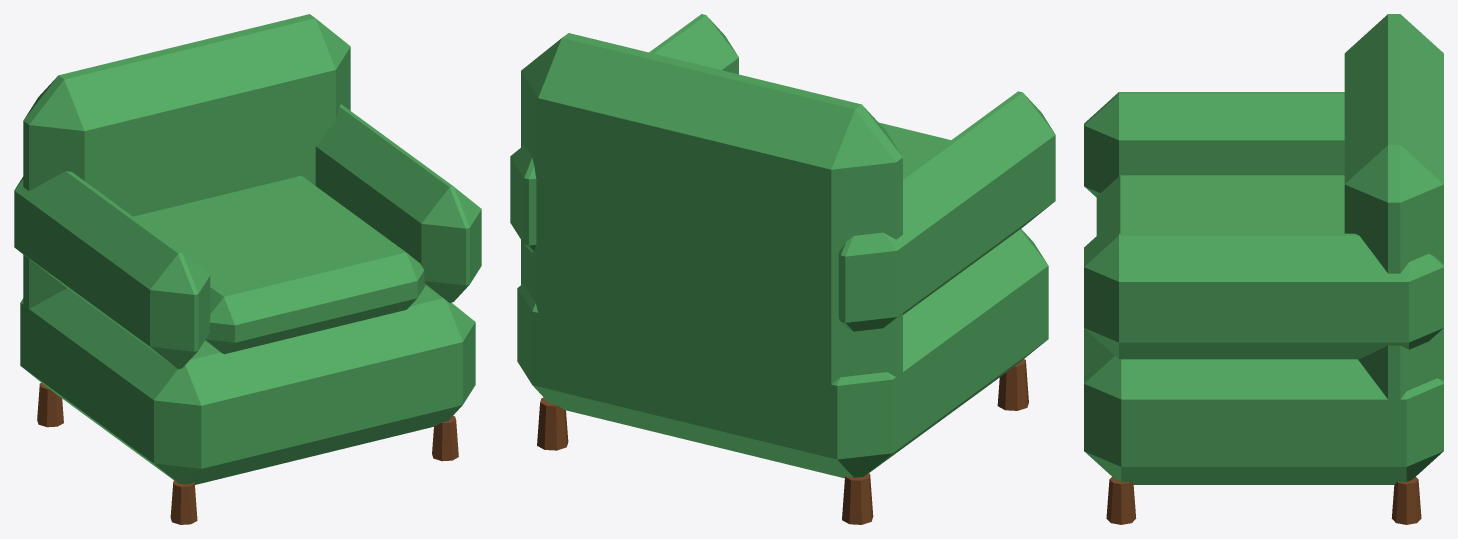
The model's file is GreenArmchair.fbx.
3 renders of one model, left to right at view 1: azimuth 30°, elevation 25°; view 2: azimuth 150°, elevation 25°; view 3: azimuth 270°, elevation 25°, orthographic. The views are drawn at different scales.
Visible parts, largest first — view 1: GreenArmchair; view 2: GreenArmchair; view 3: GreenArmchair.
Part boxes in pixels (box(x1,y1,x2,y2)): GreenArmchair: box(14, 14, 481, 524); GreenArmchair: box(510, 14, 1055, 524); GreenArmchair: box(1084, 14, 1443, 524).
Size of the model in its own units: 3.3 by 3.3 by 2.9.
1 material, 1 textured.
